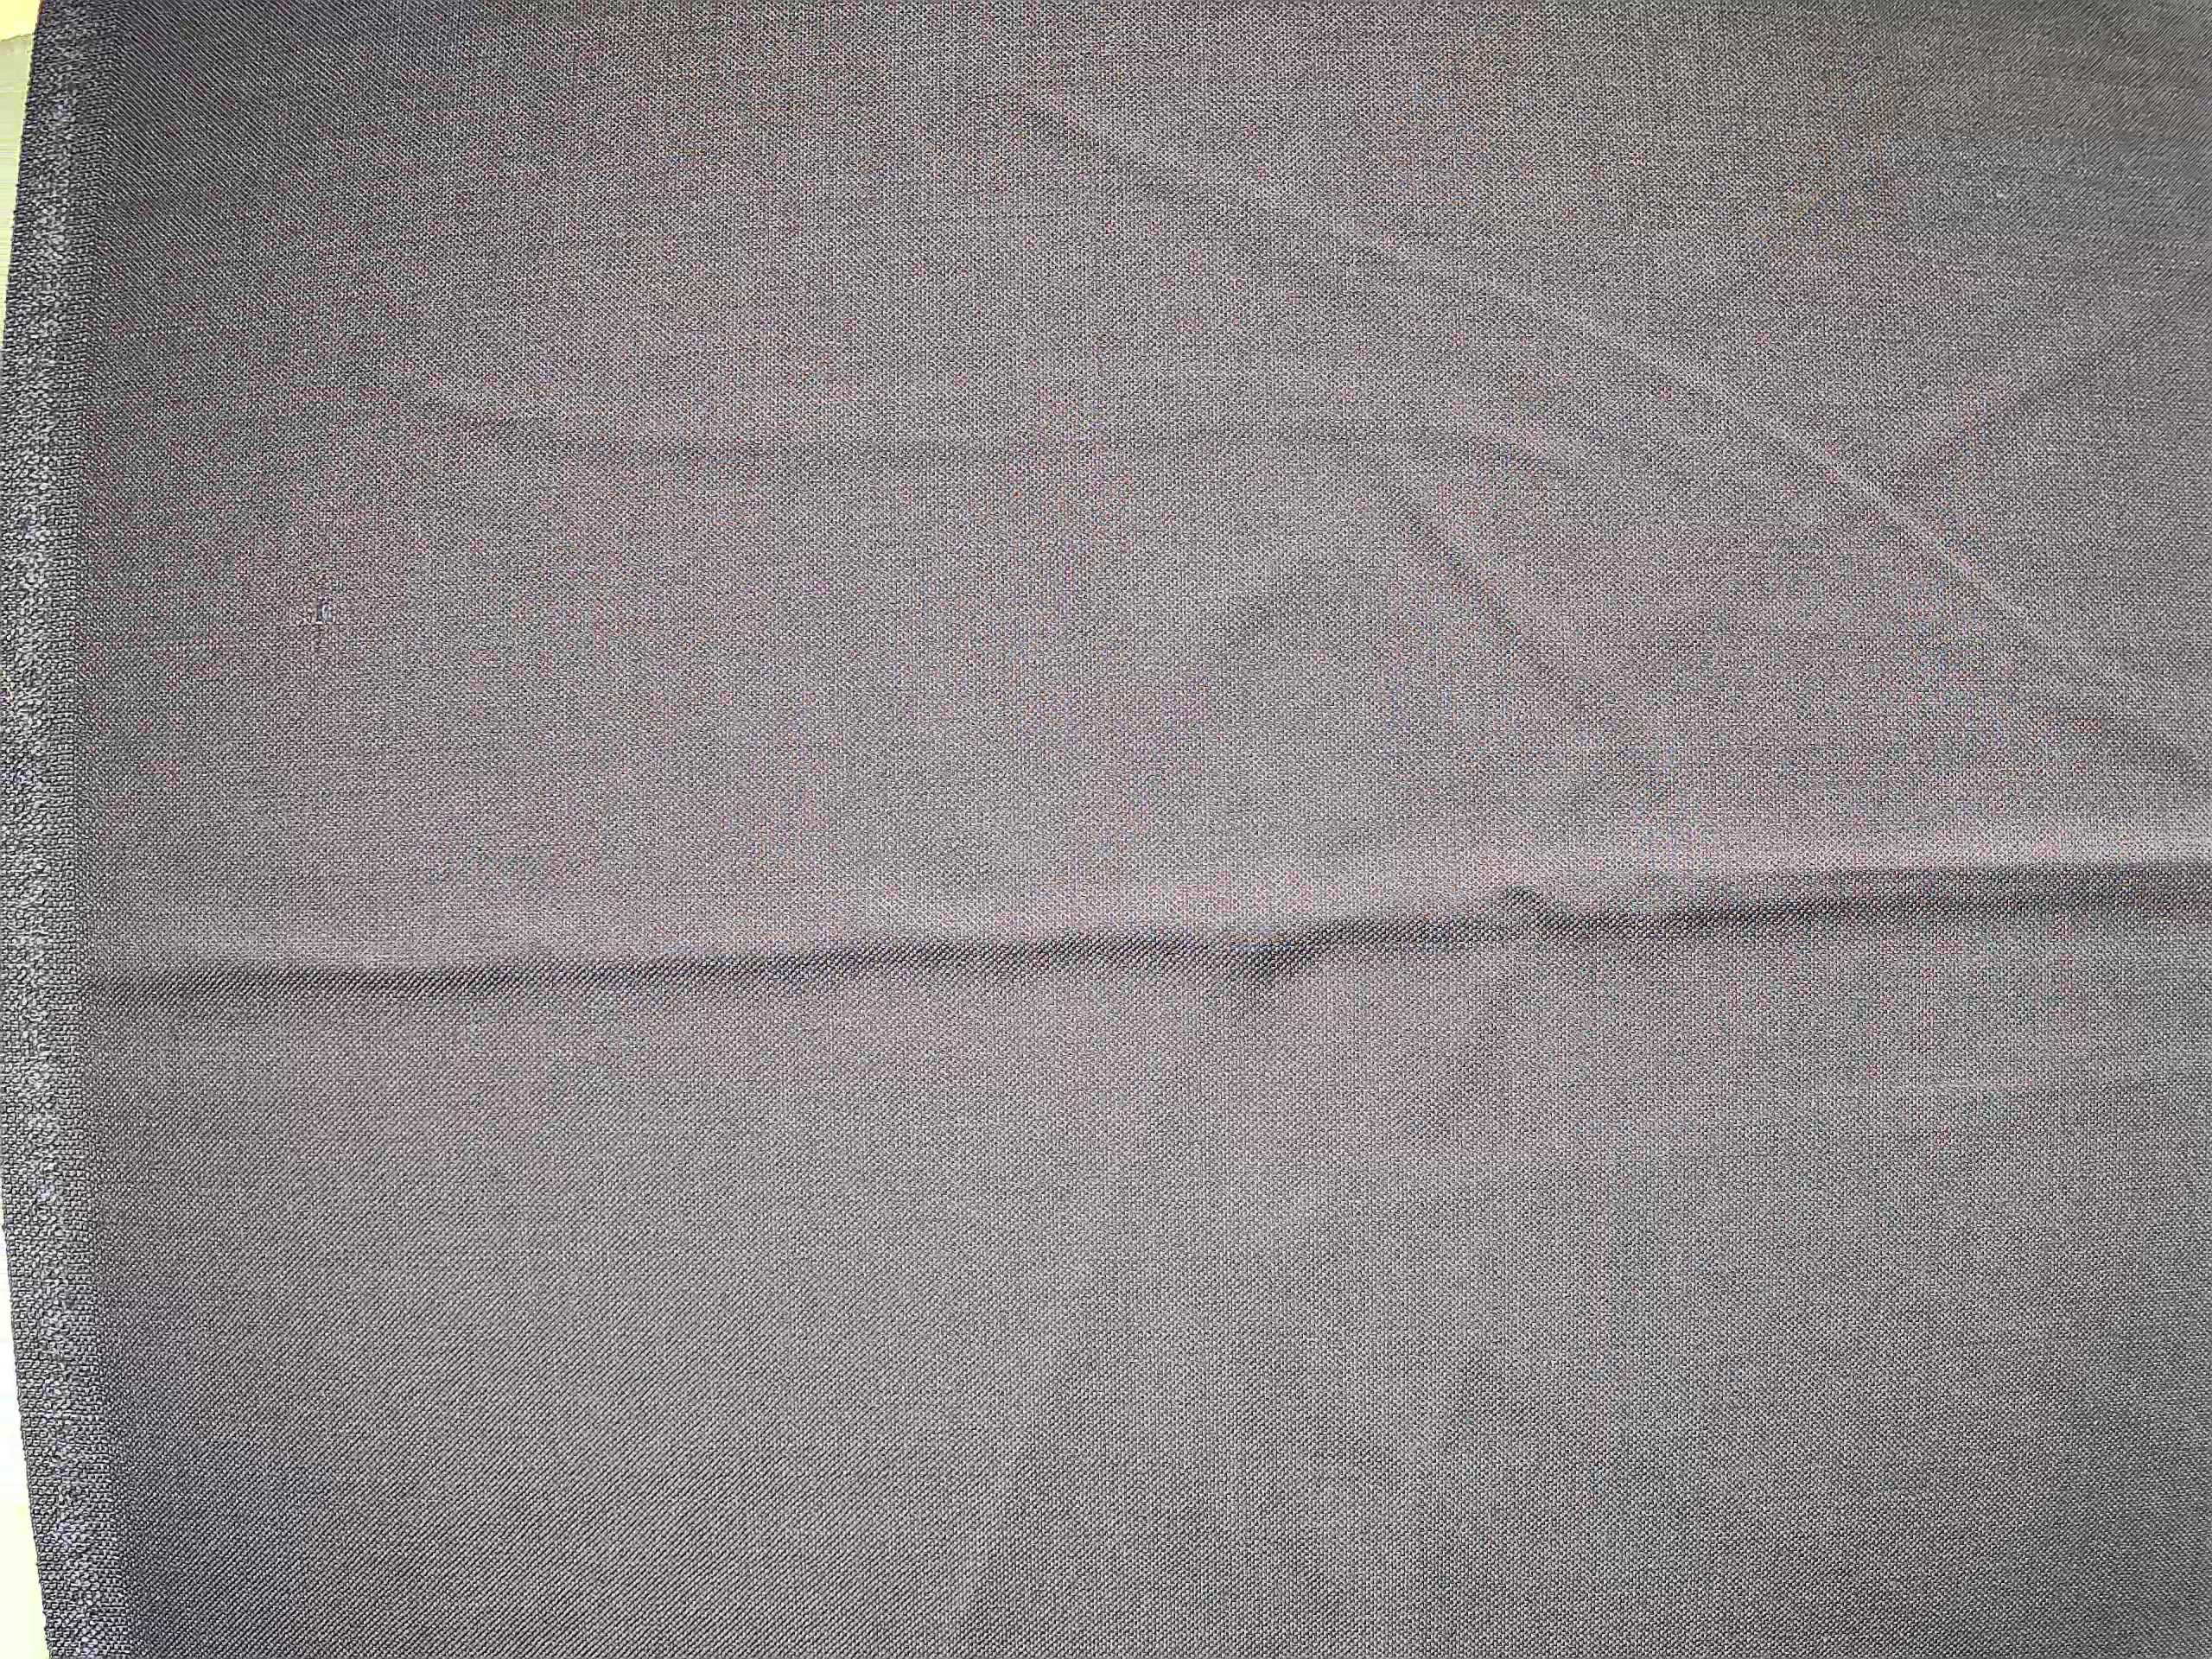brushed-hole: (277, 565, 373, 690)
